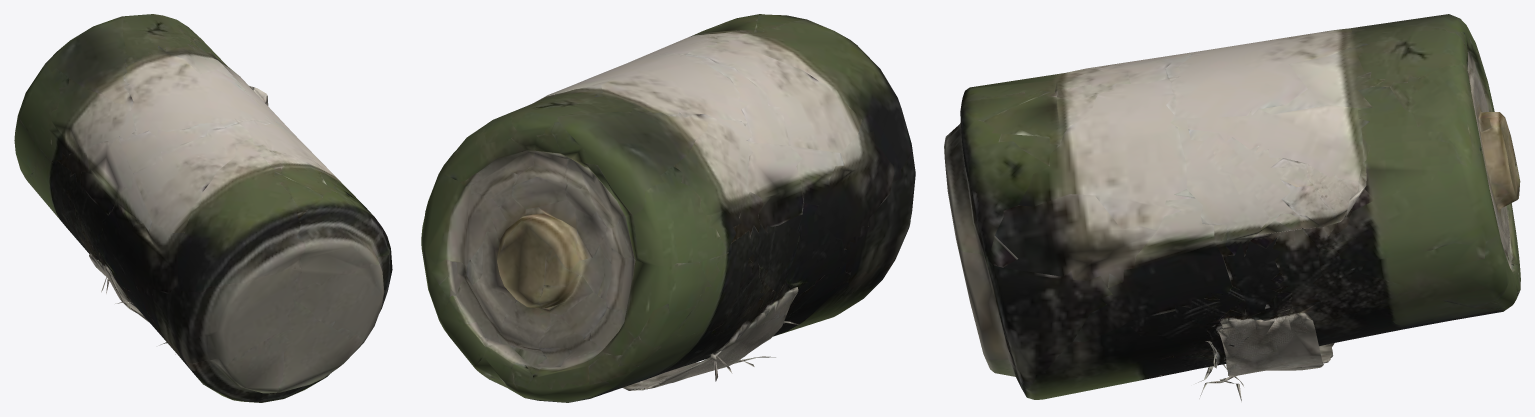
The model's file is battery.glb.
The picture shows the model from 3 angles, left to right: view 1: azimuth 30°, elevation 25°; view 2: azimuth 150°, elevation 25°; view 3: azimuth 270°, elevation 25°; orthographic projection. The views are drawn at different scales.
Parts seen in each view (by area): view 1: item; view 2: item; view 3: item.
Boxes of the visible parts, x1,y1,x2,y2 form: item: (14, 14, 392, 402); item: (421, 14, 915, 402); item: (944, 14, 1520, 401).
Size of the model in its own units: 0.0506 by 0.0614 by 0.09.
Materials: 1 (1 with a texture image).
